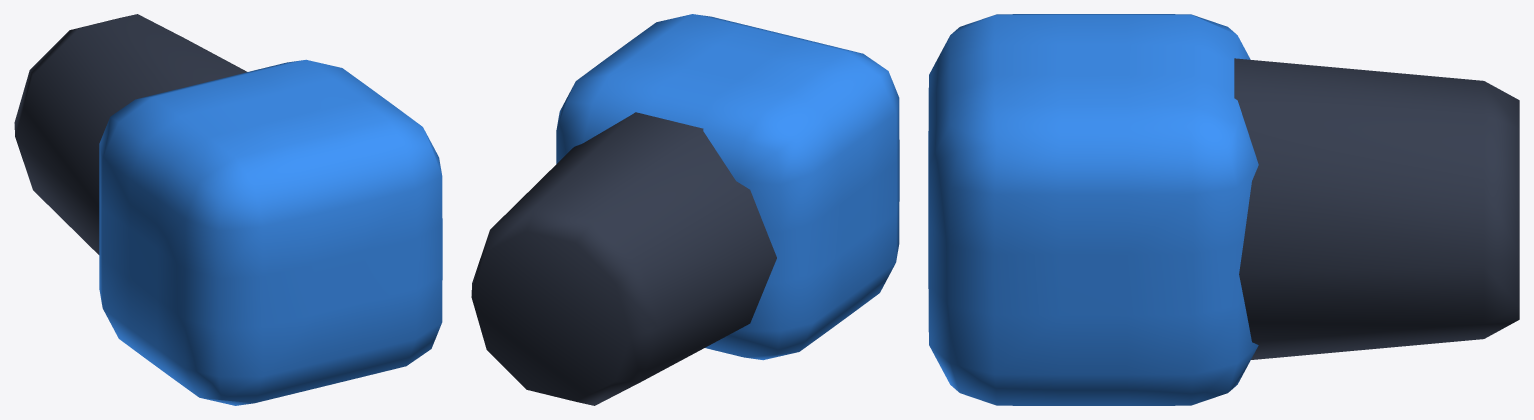
Rendered from glove_riveted.obj.
3 views of the same model, side by side, from view 1: azimuth 30°, elevation 25°; view 2: azimuth 150°, elevation 25°; view 3: azimuth 270°, elevation 25° (orthographic). The views are drawn at different scales.
Bounding box in the file's own units: 0.3 × 0.28 × 0.5.
